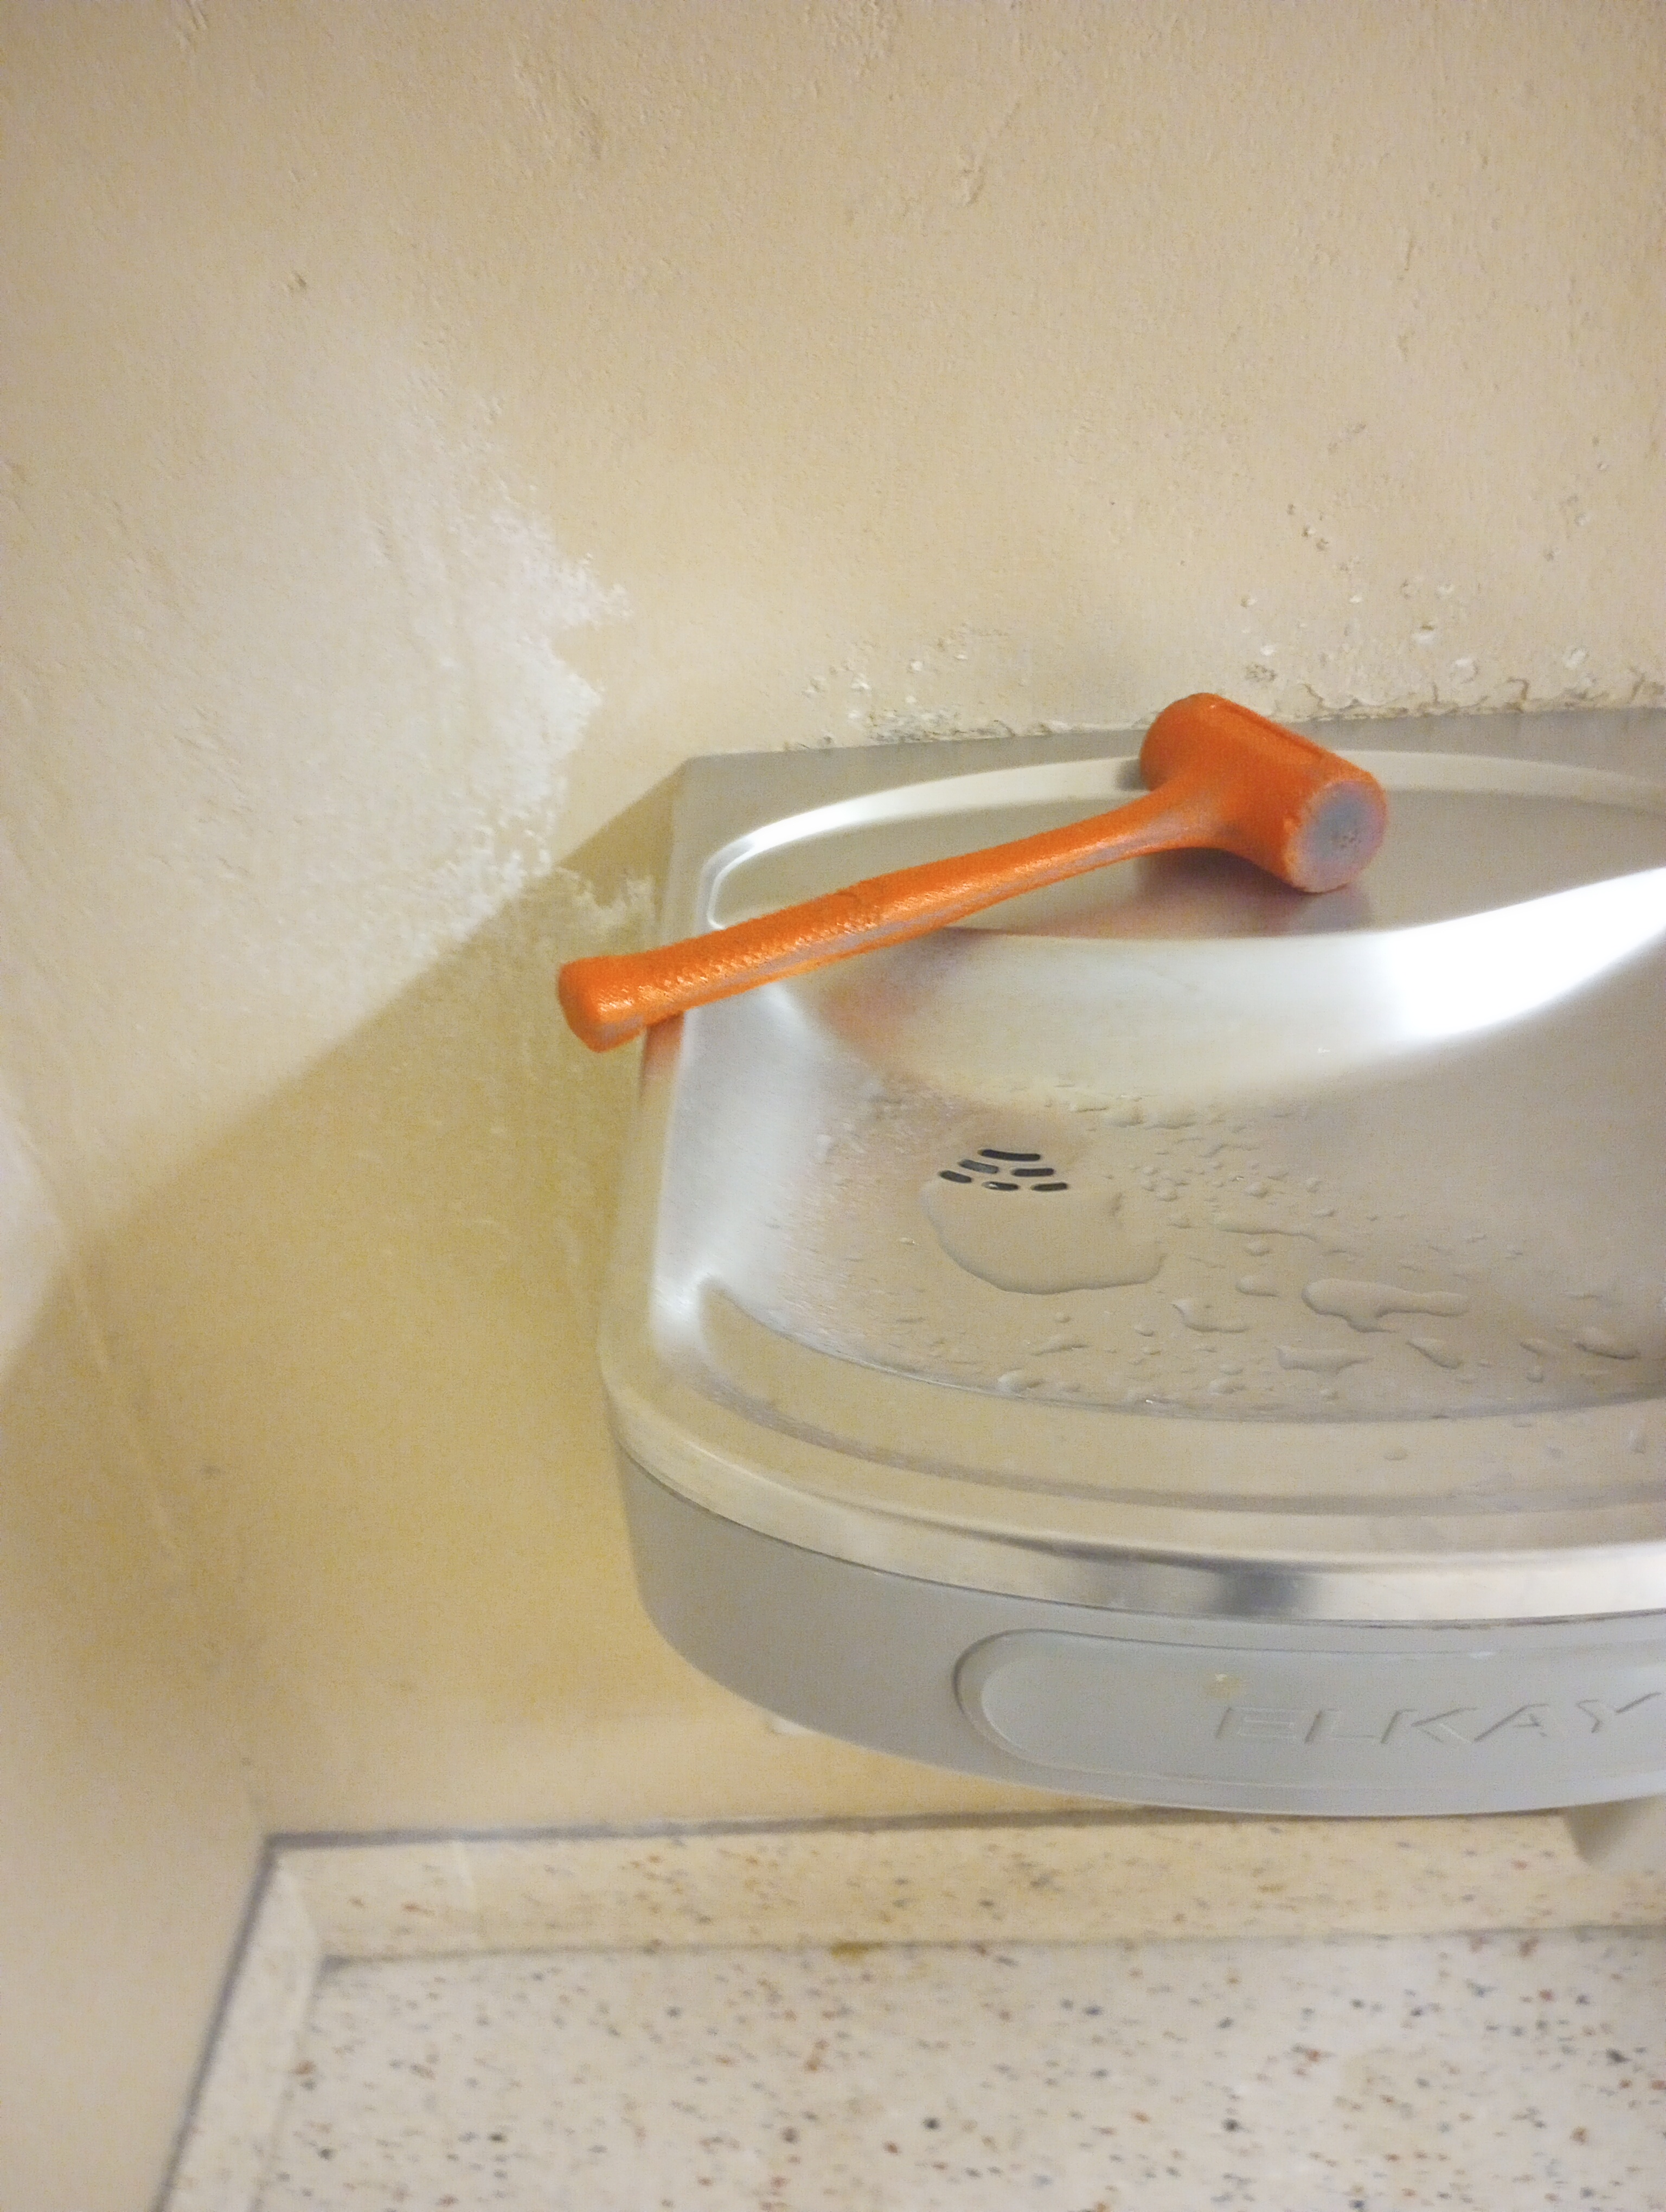bottle: (551, 685, 1391, 1058)
